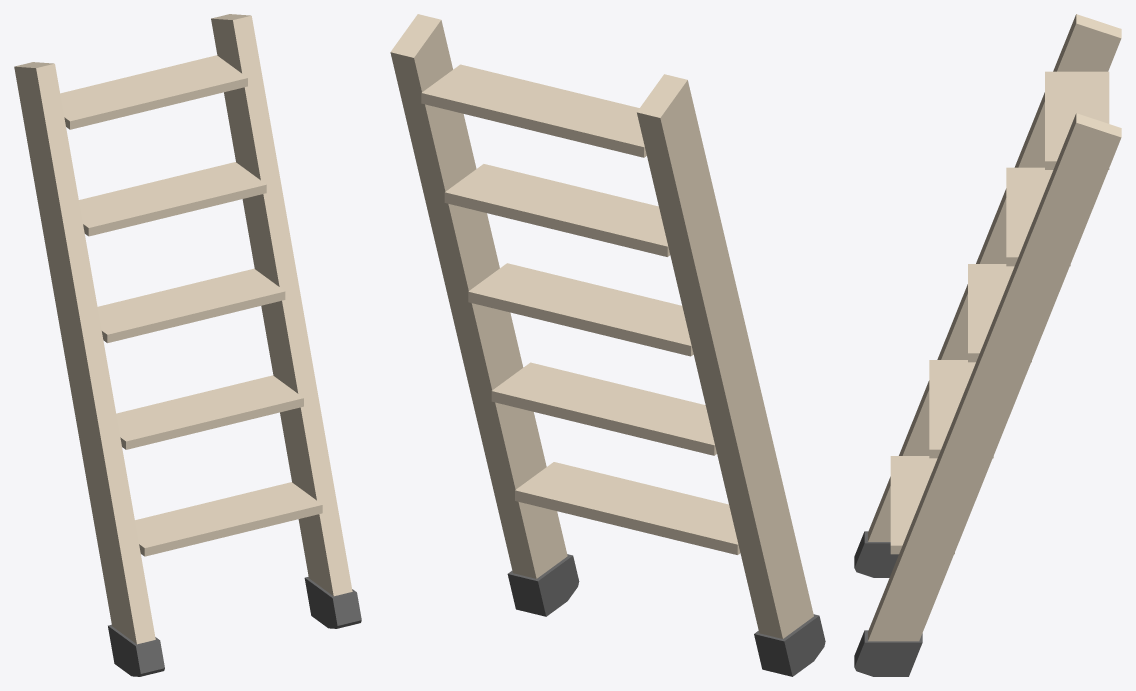
File: 995_ladder_short.glb
The picture shows the model from 3 angles, left to right: view 1: azimuth 30°, elevation 25°; view 2: azimuth 150°, elevation 25°; view 3: azimuth 270°, elevation 25°; orthographic projection. The views are drawn at different scales.
Visible parts, largest first — view 1: Body; view 2: Body; view 3: Body.
Part boxes in pixels (x1=…): Body: x1=14, y1=14, x2=361, y2=676; Body: x1=390, y1=14, x2=825, y2=676; Body: x1=854, y1=14, x2=1121, y2=676.
Bounding box in the file's own units: 0.82 × 1.9 × 0.831.
